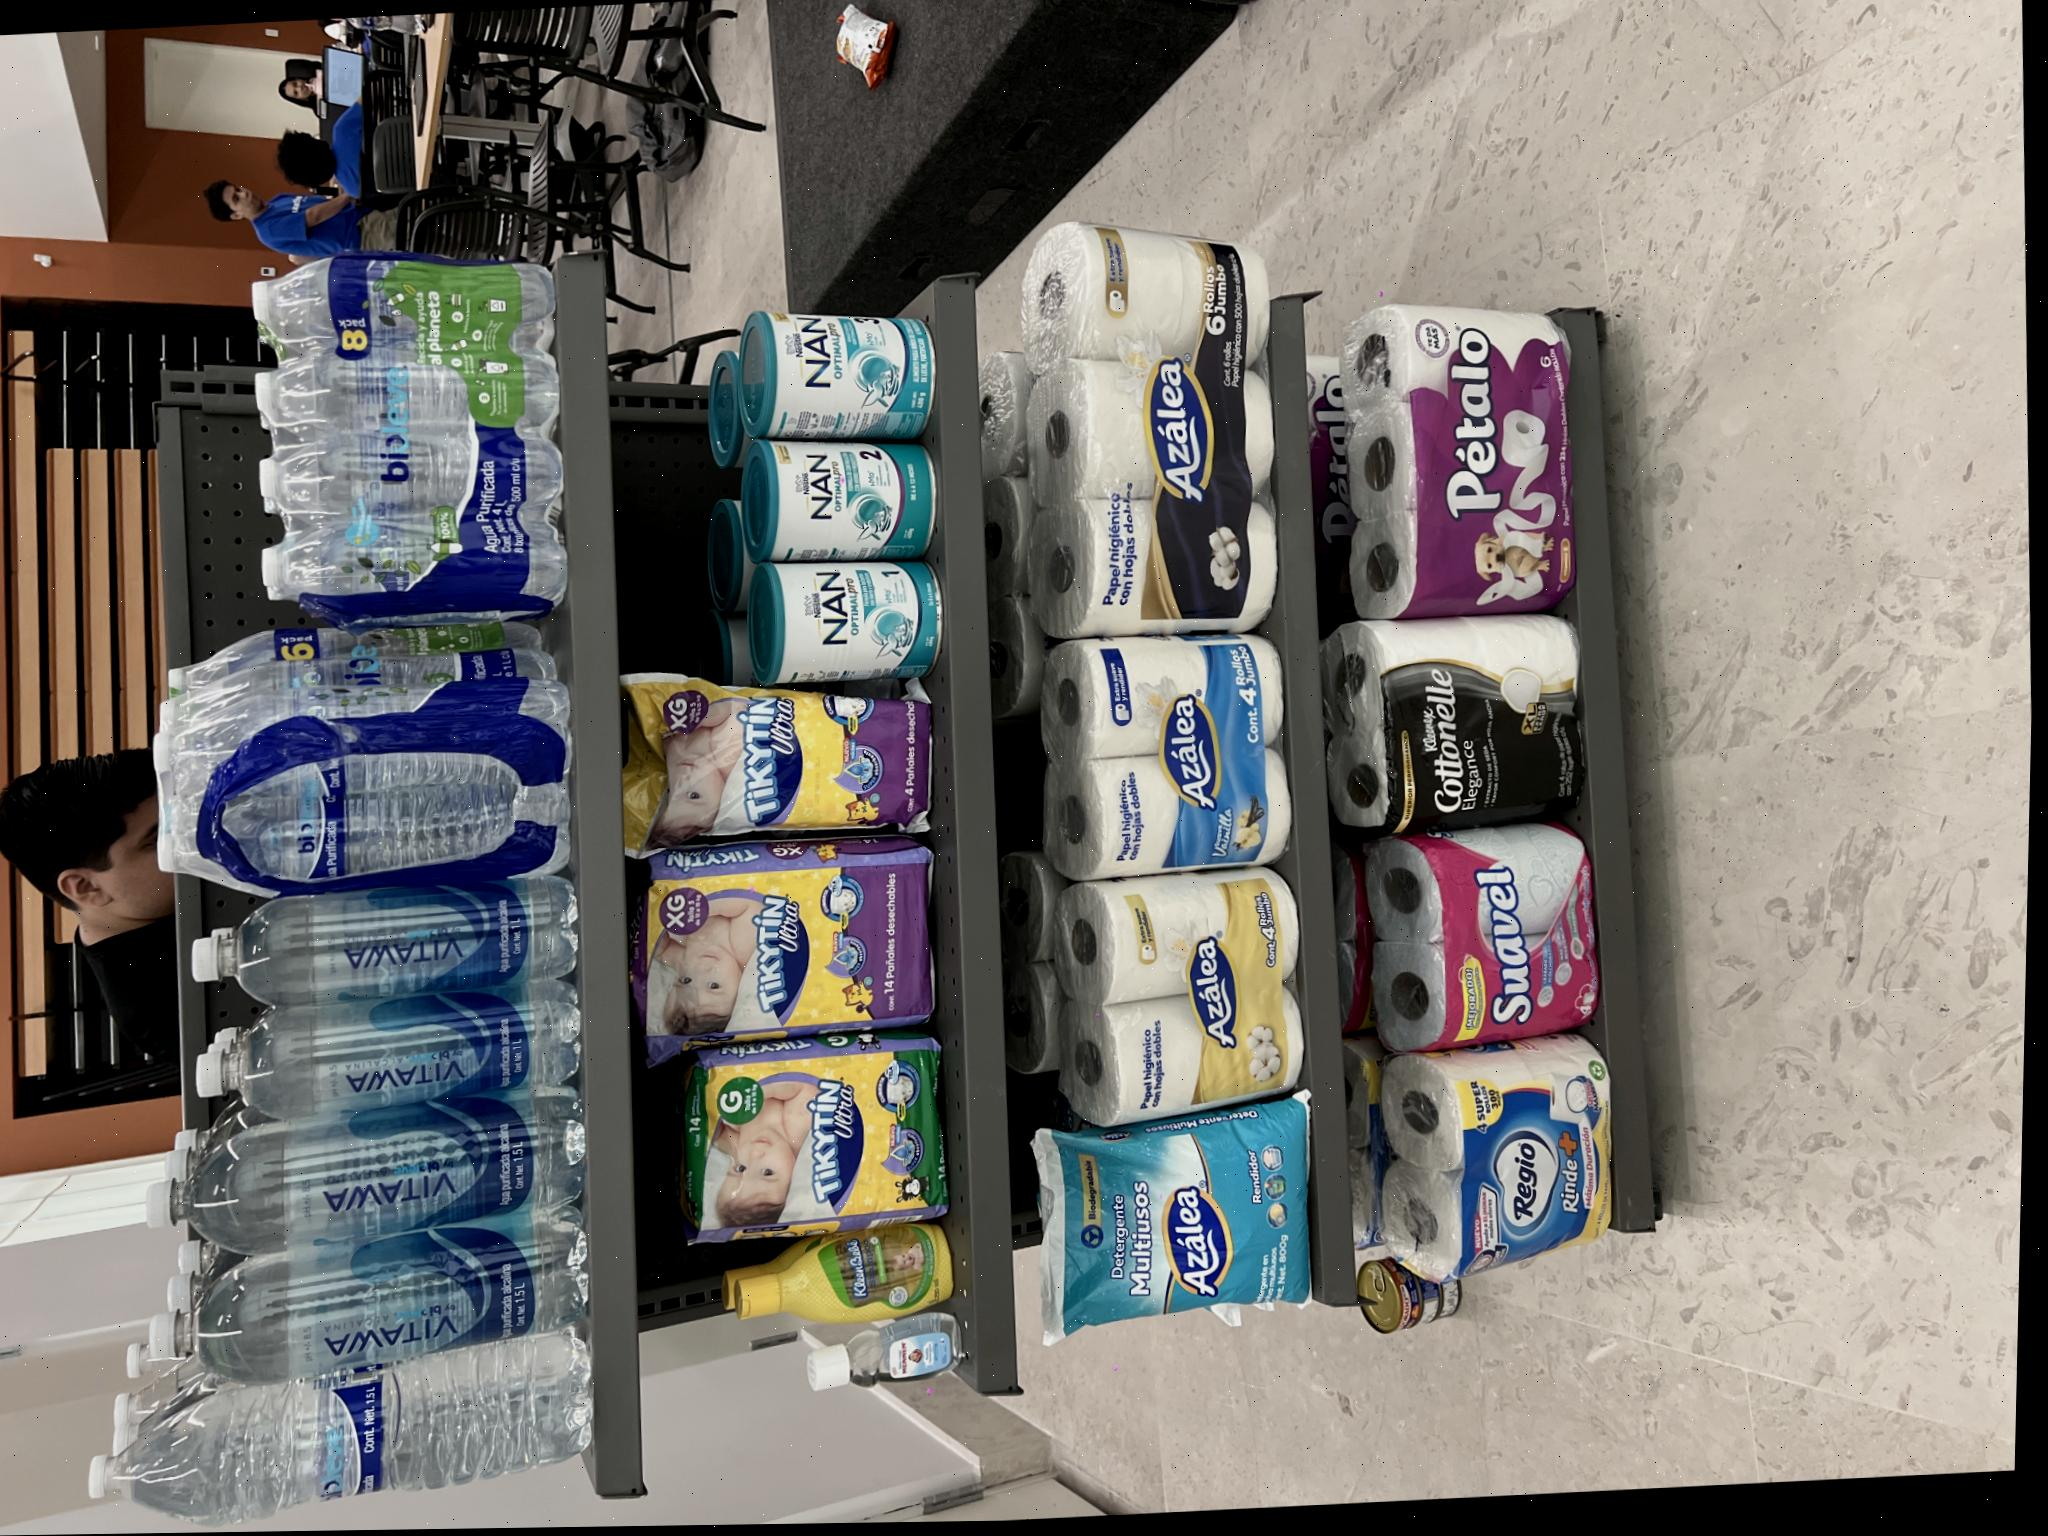aceite_bebe_mennen: (119, 845, 203, 1007)
agua_bioleve: (0, 129, 190, 637)
agua_bioleve_6pack: (632, 176, 900, 597), (922, 252, 1269, 563)
agua_vitawa_1L: (526, 210, 648, 602), (419, 227, 543, 607)
agua_vitawa_1_5L: (137, 182, 314, 615), (268, 177, 439, 618)
detergente_azaela: (164, 1070, 406, 1344)
nan_nestle_1: (837, 771, 951, 950)
nan_nestle_2: (956, 763, 1072, 942)
nan_nestle_3: (1077, 753, 1214, 942)
panales_tikytin_extragrande: (476, 658, 672, 965), (672, 641, 842, 950)
panales_tikytin_grande: (281, 723, 487, 978)
papelhigenico_azaela_6rollos: (872, 1068, 1280, 1294)
papelhigenico_azaela_amarillo: (379, 1113, 631, 1336)
papelhigenico_azaela_azul: (626, 1086, 866, 1297)
papelhigenico_kleenex_cottonelle: (661, 1386, 869, 1526)
papelhigenico_petalo: (876, 1370, 1188, 1523)
papelhigenico_regio: (208, 1473, 418, 1533)
papelhigenico_suavel: (443, 1447, 648, 1530)
shampoo_bebe: (184, 770, 292, 987)
